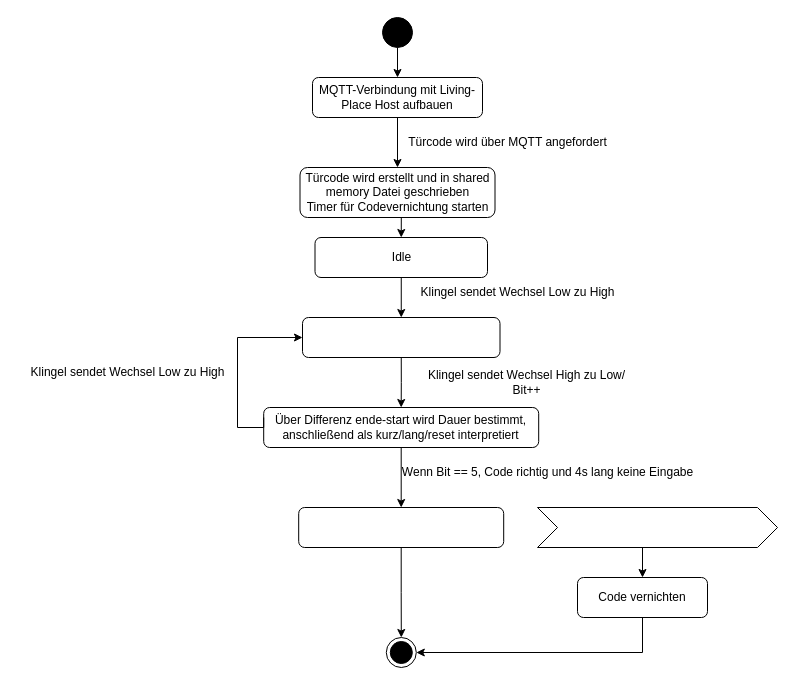
Some shapes in this 795 by 685 pixel diagram are drawn without their labels. Each missing label, with the centre of its shape:
"Startzeitpunkt wird gespeichert" belongs at point 401,337.
"Timer für Türcode abgelaufen" belongs at point 657,527.
"Öffnen des Türschlosses über MQTT" belongs at point 401,527.
